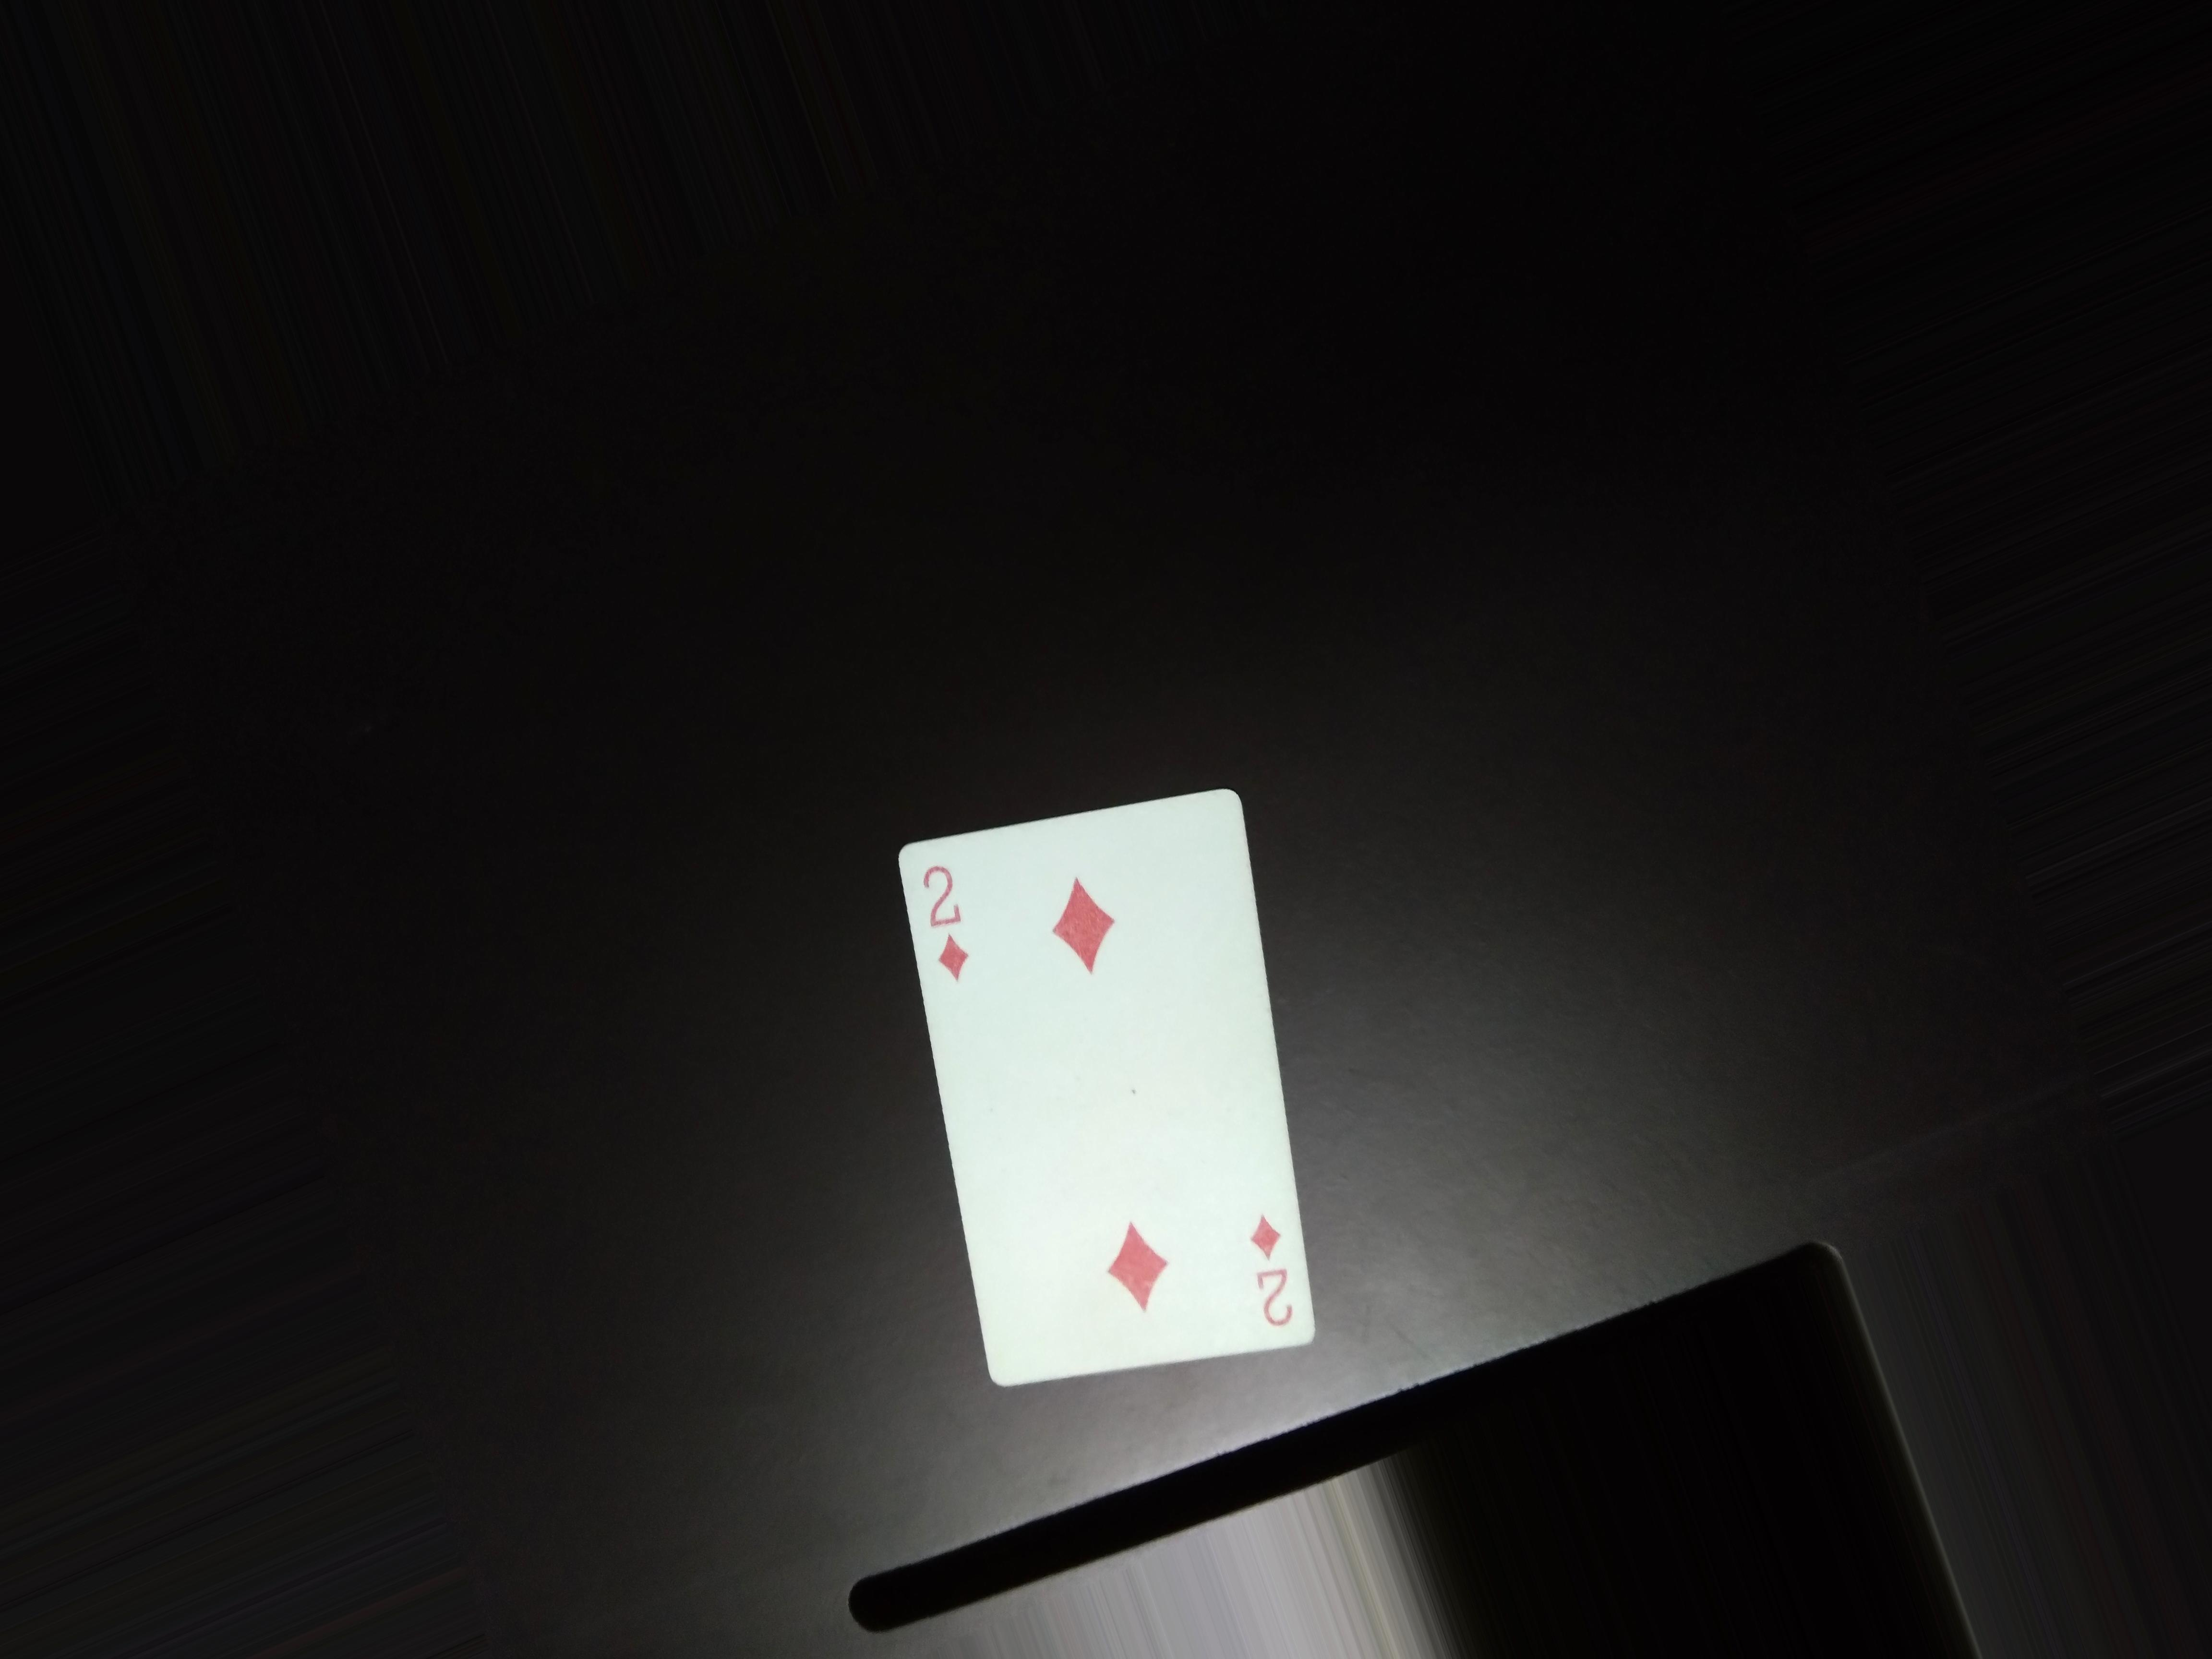2D: (904, 852, 989, 993)
